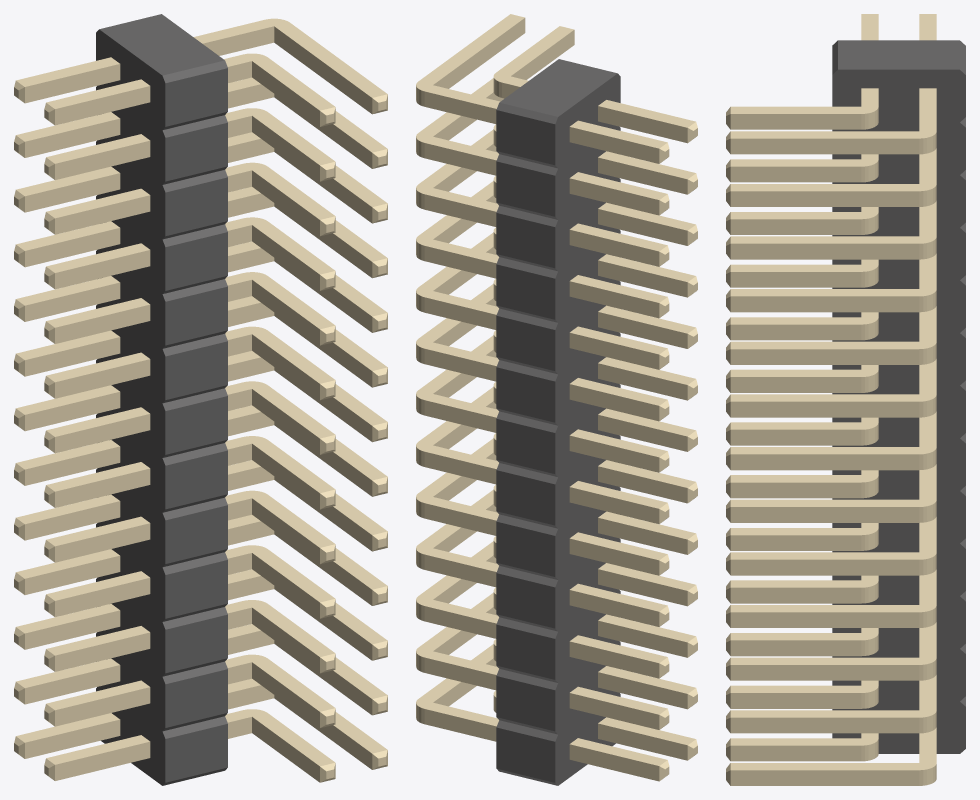
Rendered from PinHeader_2x13_P1.00mm_Horizontal.glb.
The picture shows the model from 3 angles, left to right: view 1: azimuth 30°, elevation 25°; view 2: azimuth 150°, elevation 25°; view 3: azimuth 270°, elevation 25°; orthographic projection. The views are drawn at different scales.
Parts seen in each view (by area): view 1: Shape_IndexedFaceSet.004, Shape_IndexedFaceSet.001, Shape_IndexedFaceSet.046, Shape_IndexedFaceSet.052, Shape_IndexedFaceSet.010, Shape_IndexedFaceSet.040, Shape_IndexedFaceSet.034, Shape_IndexedFaceSet.016, Shape_IndexedFaceSet.022, Shape_IndexedFaceSet.028, Shape_IndexedFaceSet.058, Shape_IndexedFaceSet.070 (+120 smaller); view 2: Shape_IndexedFaceSet.004, Shape_IndexedFaceSet.001, Shape_IndexedFaceSet.049, Shape_IndexedFaceSet.061, Shape_IndexedFaceSet.013, Shape_IndexedFaceSet.025, Shape_IndexedFaceSet.019, Shape_IndexedFaceSet.055, Shape_IndexedFaceSet.031, Shape_IndexedFaceSet.043, Shape_IndexedFaceSet.037, Shape_IndexedFaceSet.073 (+109 smaller); view 3: Shape_IndexedFaceSet.003, Shape_IndexedFaceSet.001, Shape_IndexedFaceSet.296, Shape_IndexedFaceSet.311, Shape_IndexedFaceSet.331, Shape_IndexedFaceSet.351, Shape_IndexedFaceSet.386, Shape_IndexedFaceSet.326, Shape_IndexedFaceSet.406, Shape_IndexedFaceSet.291, Shape_IndexedFaceSet.346, Shape_IndexedFaceSet.361 (+44 smaller).
Part boxes in pixels (x1,y1,x2,y2): Shape_IndexedFaceSet.004: (96, 29, 165, 785); Shape_IndexedFaceSet.001: (99, 14, 224, 75); Shape_IndexedFaceSet.046: (165, 450, 227, 509); Shape_IndexedFaceSet.052: (165, 505, 227, 563); Shape_IndexedFaceSet.010: (165, 122, 227, 181); Shape_IndexedFaceSet.040: (165, 396, 227, 454); Shape_IndexedFaceSet.034: (165, 341, 227, 399); Shape_IndexedFaceSet.016: (165, 177, 227, 236); Shape_IndexedFaceSet.022: (165, 232, 227, 290); Shape_IndexedFaceSet.028: (165, 286, 227, 345); Shape_IndexedFaceSet.058: (165, 560, 227, 618); Shape_IndexedFaceSet.070: (165, 669, 227, 727); Shape_IndexedFaceSet.004: (555, 73, 620, 785); Shape_IndexedFaceSet.001: (499, 59, 617, 116); Shape_IndexedFaceSet.049: (496, 470, 555, 525); Shape_IndexedFaceSet.061: (496, 573, 555, 628); Shape_IndexedFaceSet.013: (496, 161, 555, 216); Shape_IndexedFaceSet.025: (496, 264, 555, 319); Shape_IndexedFaceSet.019: (496, 213, 555, 268); Shape_IndexedFaceSet.055: (496, 521, 555, 576); Shape_IndexedFaceSet.031: (496, 315, 555, 370); Shape_IndexedFaceSet.043: (496, 418, 555, 473); Shape_IndexedFaceSet.037: (496, 367, 555, 422); Shape_IndexedFaceSet.073: (496, 676, 555, 731); Shape_IndexedFaceSet.003: (832, 69, 965, 753); Shape_IndexedFaceSet.001: (838, 40, 959, 69); Shape_IndexedFaceSet.296: (730, 401, 919, 417); Shape_IndexedFaceSet.311: (730, 296, 919, 312); Shape_IndexedFaceSet.331: (730, 243, 919, 259); Shape_IndexedFaceSet.351: (730, 454, 919, 470); Shape_IndexedFaceSet.386: (730, 559, 919, 575); Shape_IndexedFaceSet.326: (730, 138, 919, 154); Shape_IndexedFaceSet.406: (730, 717, 919, 733); Shape_IndexedFaceSet.291: (730, 349, 919, 364); Shape_IndexedFaceSet.346: (730, 191, 919, 206); Shape_IndexedFaceSet.361: (730, 507, 919, 522).
Size of the model in its own units: 2.03 by 5.12 by 1.62.
